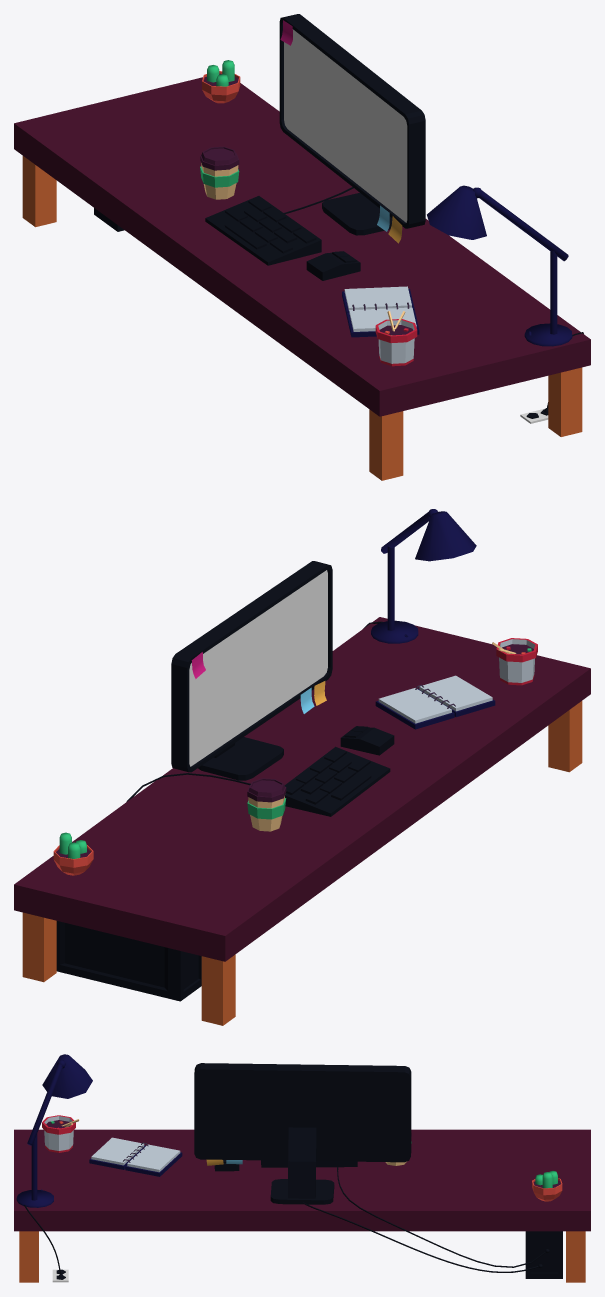
Rendered from PlayerDesk.fbx.
3 renders of one model, top to bottom at view 1: azimuth 30°, elevation 25°; view 2: azimuth 150°, elevation 25°; view 3: azimuth 270°, elevation 25°, orthographic. The views are drawn at different scales.
Parts seen in each view (by area): view 1: PlayersDesk; view 2: PlayersDesk; view 3: PlayersDesk.
Part boxes in pixels (x1=…): PlayersDesk: x1=14, y1=14, x2=590, y2=480; PlayersDesk: x1=14, y1=509, x2=590, y2=1025; PlayersDesk: x1=14, y1=1054, x2=590, y2=1282.
Size of the model in its own units: 212 by 225 by 600.
